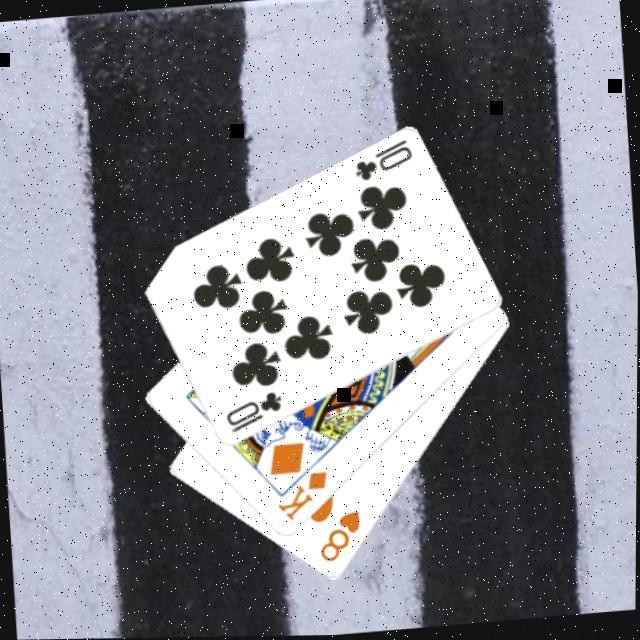10C: (348, 136, 416, 185), (219, 388, 286, 437)
8H: (313, 508, 366, 566)
KD: (271, 468, 333, 524)
